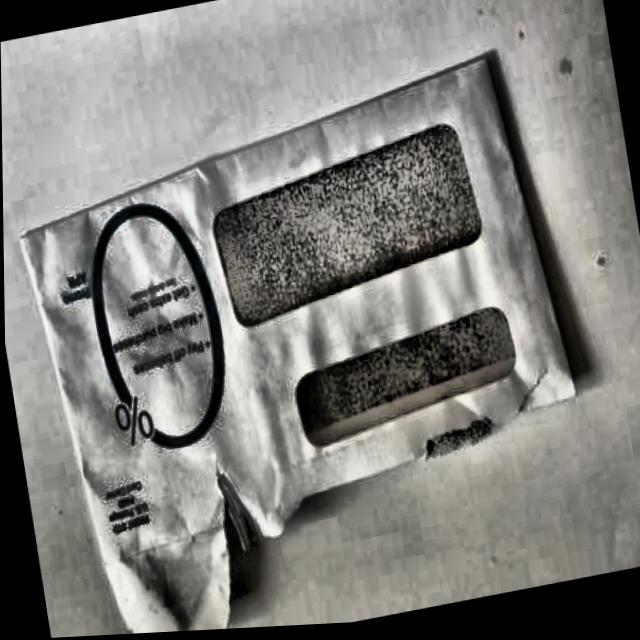Paper: (1, 29, 614, 640)
